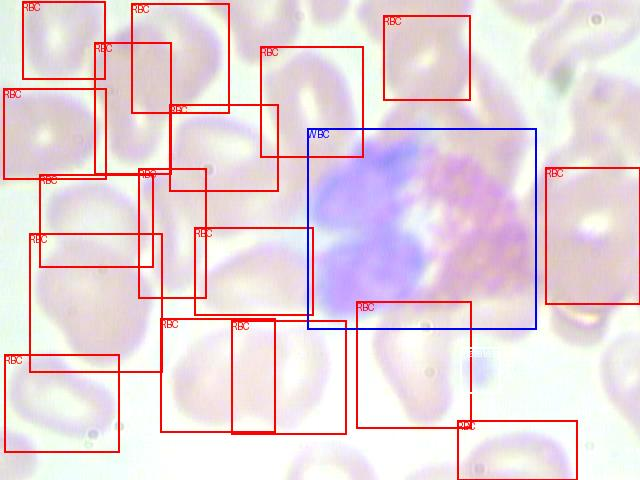Platelets: (460, 347, 500, 393)
RBC: (29, 233, 162, 372), (356, 301, 471, 428), (160, 318, 275, 432), (231, 320, 346, 434), (545, 167, 640, 304), (260, 46, 363, 157), (4, 354, 119, 452), (131, 3, 229, 113), (39, 174, 153, 267), (194, 227, 313, 315), (94, 42, 171, 174), (169, 104, 278, 191), (3, 88, 106, 179), (138, 168, 206, 298), (383, 15, 470, 100), (457, 420, 577, 480), (22, 1, 105, 79)
WBC: (307, 128, 536, 329)
